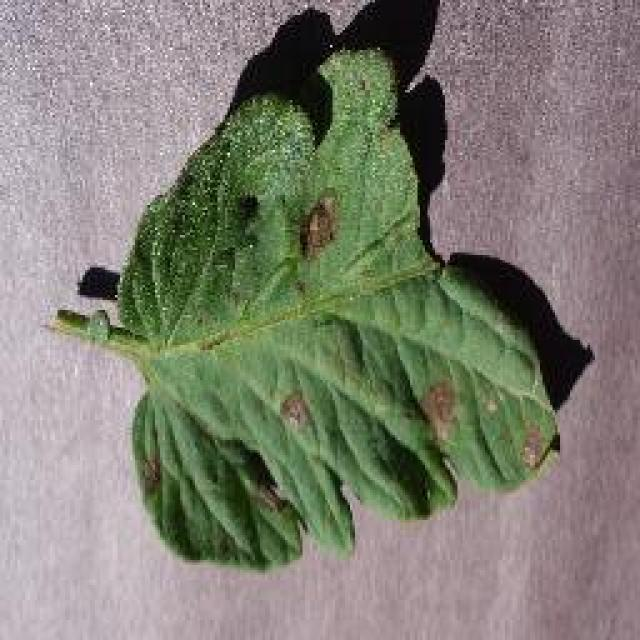Tomato Early blight leaf: (52, 116, 578, 562)
